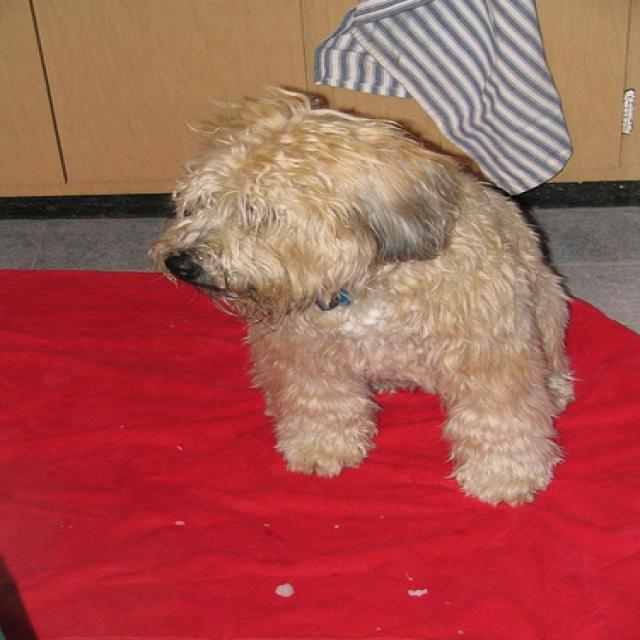dog: (148, 108, 452, 294)
